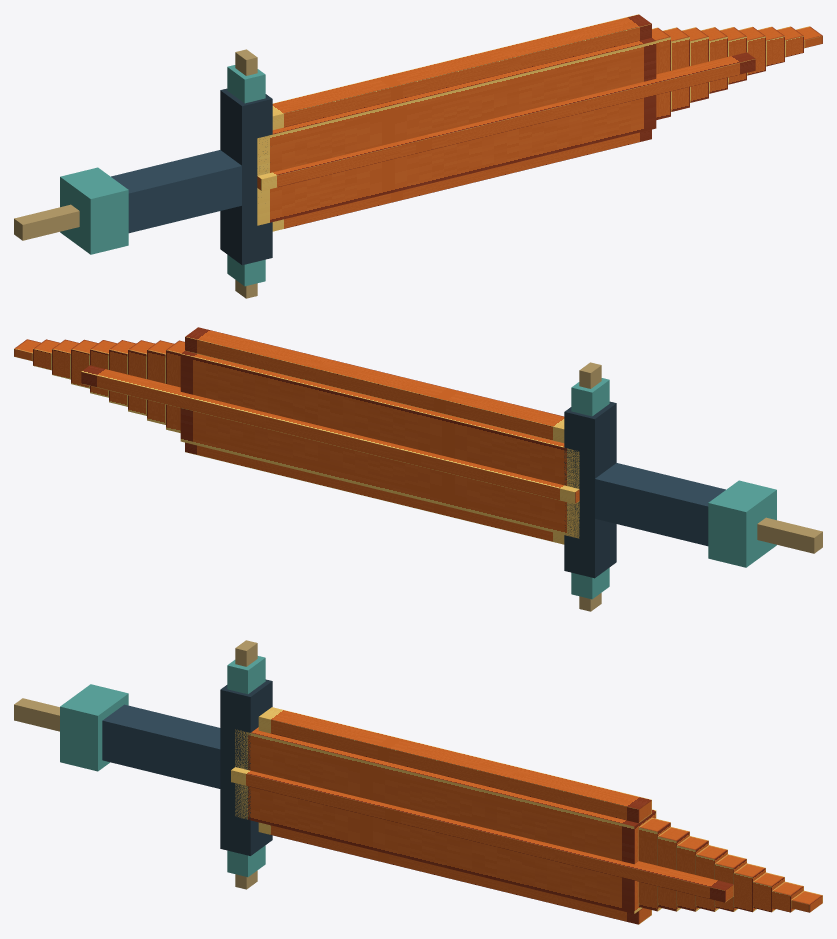
Rendered from bench_flying_sword_5_hot.obj.
The picture shows the model from 3 angles, top to bottom: view 1: azimuth 30°, elevation 25°; view 2: azimuth 150°, elevation 25°; view 3: azimuth 330°, elevation 25°; orthographic projection.
Parts seen in each view (by area): view 1: geometry; view 2: geometry; view 3: geometry.
Part boxes in pixels (x1,y1,x2,y2): geometry: (14,14,822,298); geometry: (14,327,822,611); geometry: (14,640,822,924).
Size of the model in its own units: 0.75 by 0.2143 by 0.05.
